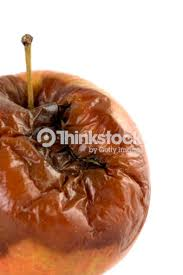damaged_apple: (2, 66, 152, 260)
